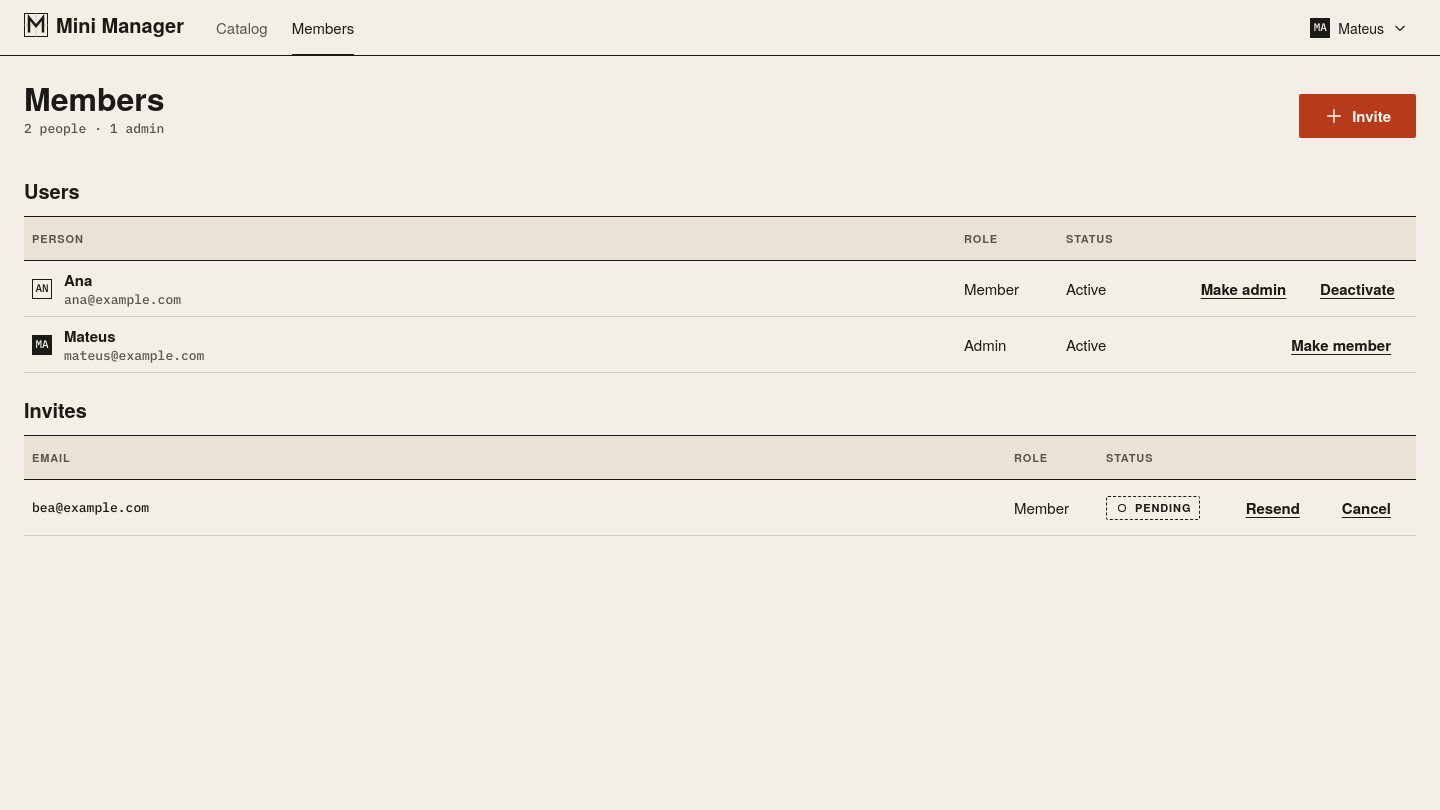
Test: MembersPage › card 1 acceptance criterion 1: sends an invite and shows its link to copy
Click the button "Invite": {"x": 1358, "y": 116} top-left (1299, 94), bottom-right (1416, 138)
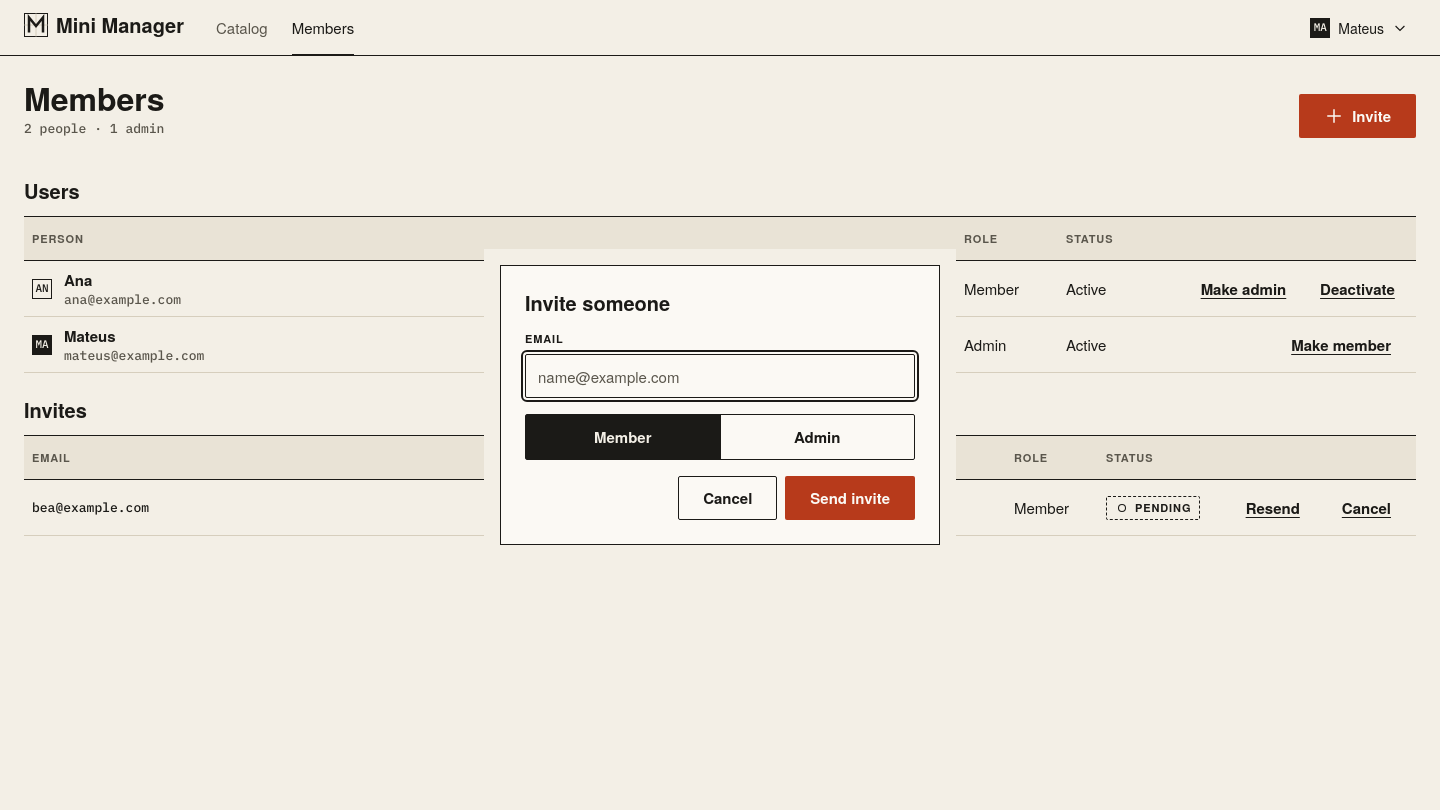
In the field labelled "Email": {"x": 720, "y": 376} top-left (538, 355), bottom-right (902, 397), type "carl@example.com"
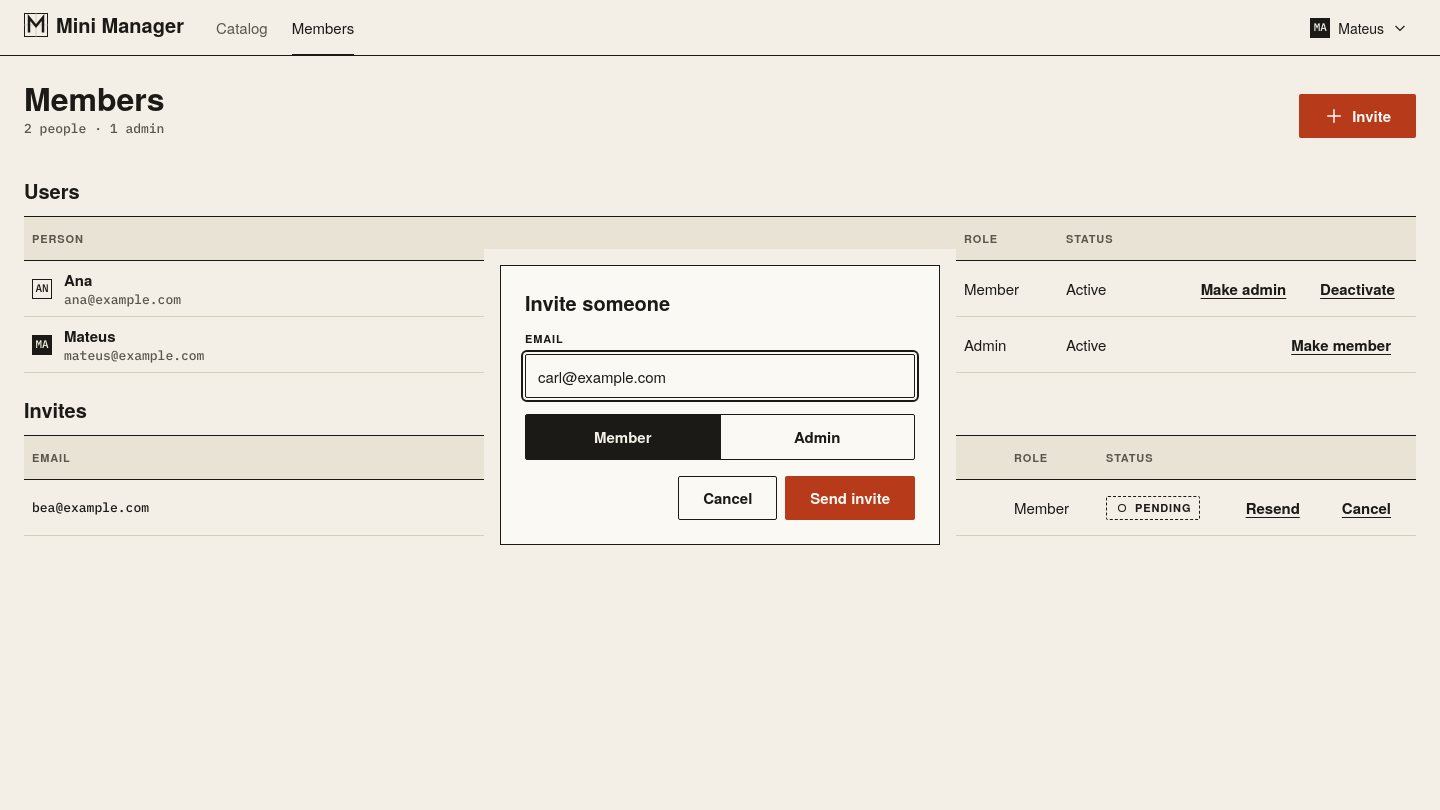
Click the button "Send invite": {"x": 850, "y": 498} top-left (785, 476), bottom-right (915, 520)
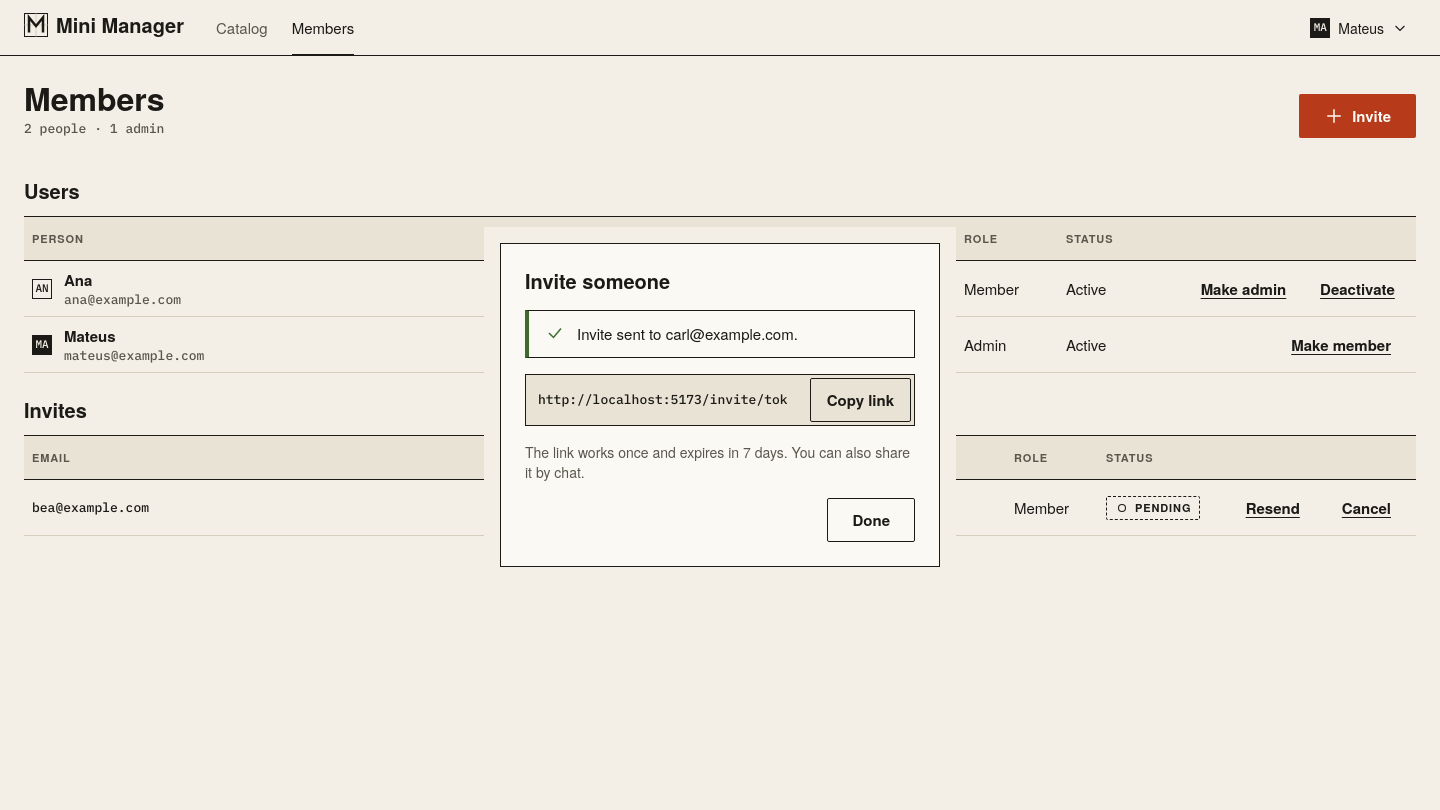
expect the text "Invite sent to carl@example.com." is shown: met, box top-left (577, 323), bottom-right (798, 345)
expect the element titled "http://localhost:5173/invite/tok" is shown: met, box top-left (538, 391), bottom-right (802, 409)
